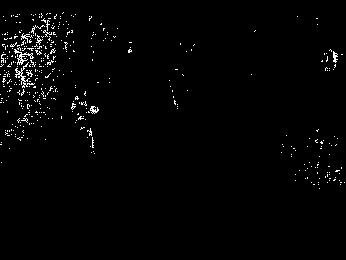person: (70, 89, 102, 156)
